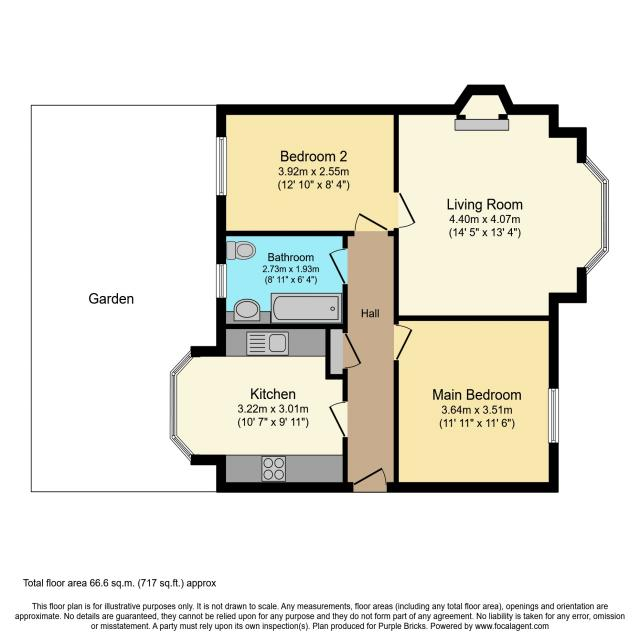DOOR: (352, 465, 388, 493), (353, 211, 389, 237), (393, 191, 417, 229), (393, 323, 414, 362), (327, 400, 348, 438), (328, 247, 348, 286)
ROOM: (393, 84, 609, 321), (169, 324, 348, 493), (393, 315, 559, 493), (216, 104, 417, 237)
WINDOW: (582, 154, 609, 276), (169, 349, 195, 463), (215, 136, 228, 196), (547, 387, 560, 444), (215, 263, 227, 299)
